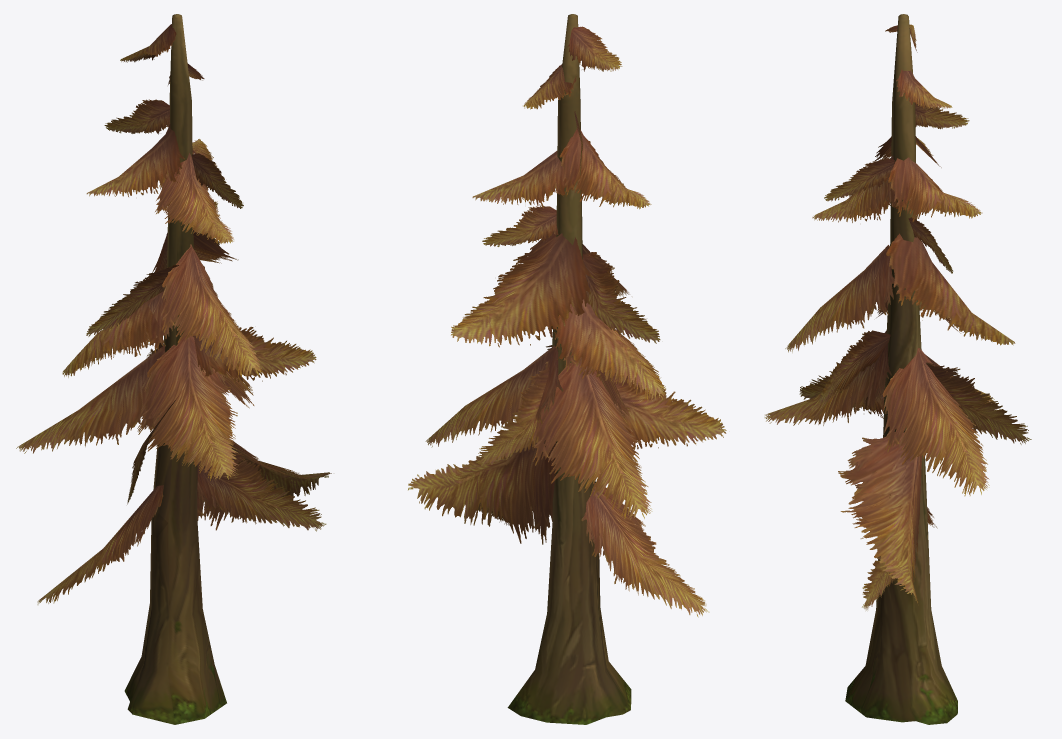
The model's file is Coniferous_red01.FBX.
3 views of the same model, side by side, from view 1: azimuth 30°, elevation 25°; view 2: azimuth 150°, elevation 25°; view 3: azimuth 270°, elevation 25° (orthographic).
Visible parts, largest first — view 1: Coniferous_red01; view 2: Coniferous_red01; view 3: Coniferous_red01.
Boxes of the visible parts, left/top/right/bottom form: Coniferous_red01: left=16, top=14, right=331, bottom=724; Coniferous_red01: left=408, top=14, right=726, bottom=724; Coniferous_red01: left=764, top=14, right=1031, bottom=724.
Bounding box in the file's own units: 953 × 2002 × 756.
